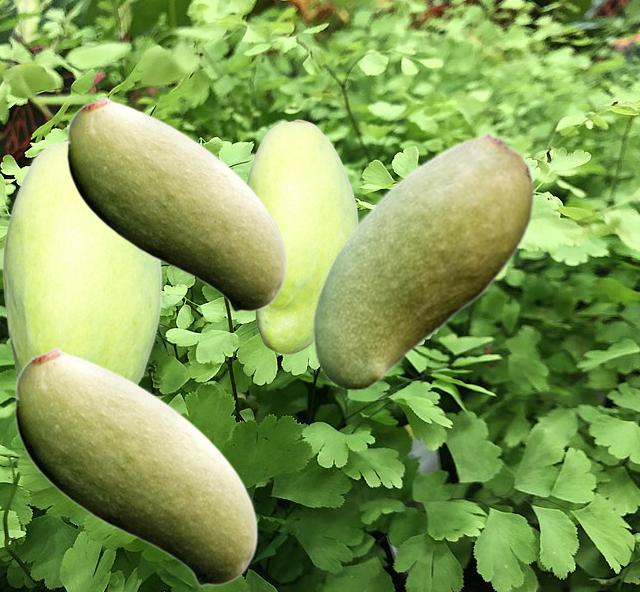green_mango: (14, 346, 257, 586), (312, 131, 534, 389), (66, 95, 286, 312), (2, 138, 161, 384), (246, 119, 357, 353)
